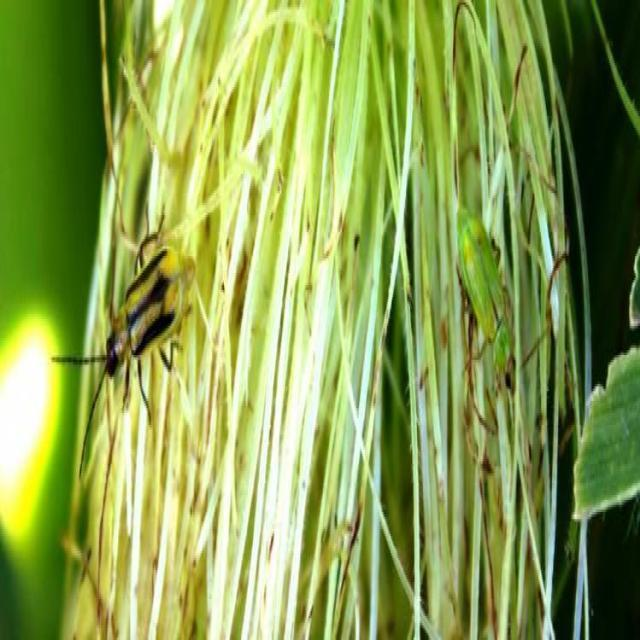trips: (51, 204, 198, 472)
